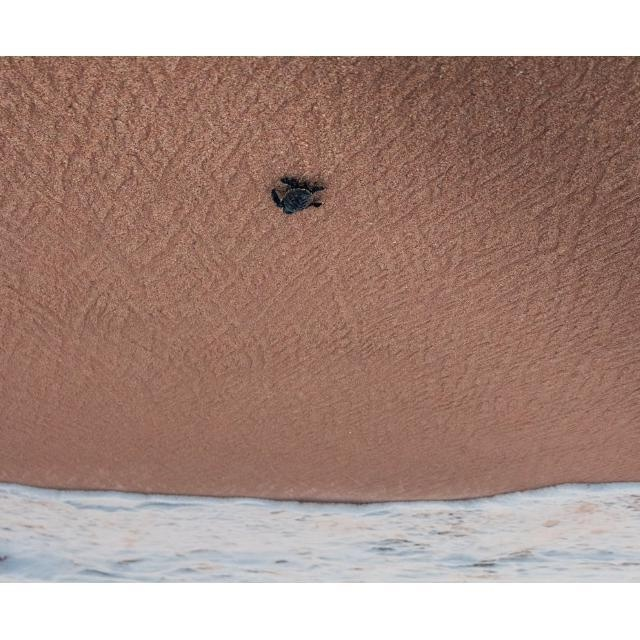turtle: (269, 176, 326, 215)
